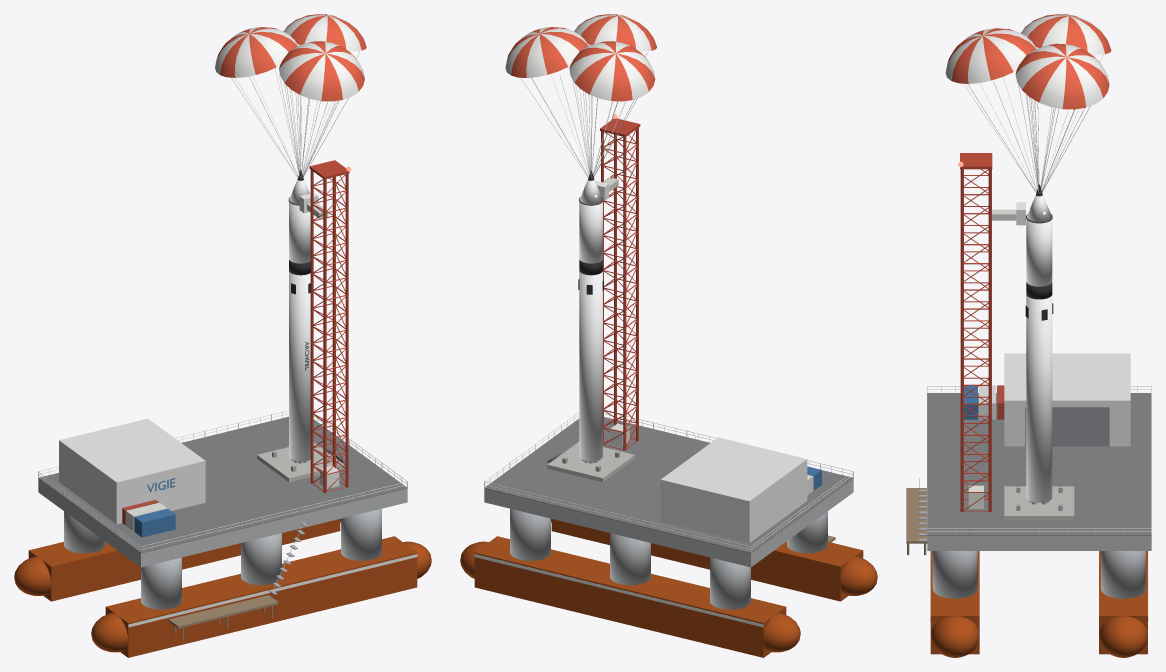
The model's file is vigie.glb.
The picture shows the model from 3 angles, left to right: view 1: azimuth 30°, elevation 25°; view 2: azimuth 150°, elevation 25°; view 3: azimuth 270°, elevation 25°; orthographic projection. The views are drawn at different scales.
Parts seen in each view (by area): view 1: PontDessus, Flotteur, Hangar, Flotteur.001, Pont, Etage1Corps, Voile.002, Voile.001, Voile, Colonne, Colonne.002, Colonne.001 (+12 smaller); view 2: Flotteur.001, PontDessus, Hangar, Flotteur, Pont, Etage1Corps, Voile.001, Voile, Voile.002, Colonne.003, Colonne.004, Colonne.005 (+9 smaller); view 3: PontDessus, Hangar, Etage1Corps, Voile, Voile.002, Pont, PorteHangar, Voile.001, Colonne.002, Colonne.005, PasDeTir, Etage2Corps (+11 smaller).
Boxes of the visible parts, bbox=[...] form: PontDessus: bbox=[38, 416, 407, 553]; Flotteur: bbox=[105, 536, 417, 657]; Hangar: bbox=[59, 418, 205, 524]; Flotteur.001: bbox=[28, 519, 340, 601]; Pont: bbox=[38, 478, 407, 567]; Etage1Corps: bbox=[289, 271, 310, 461]; Voile.002: bbox=[279, 41, 364, 101]; Voile.001: bbox=[215, 27, 297, 77]; Voile: bbox=[283, 14, 366, 51]; Colonne: bbox=[141, 557, 181, 609]; Colonne.002: bbox=[341, 508, 381, 560]; Colonne.001: bbox=[241, 533, 281, 585]; Flotteur.001: bbox=[474, 536, 786, 657]; PontDessus: bbox=[484, 417, 853, 553]; Hangar: bbox=[660, 437, 807, 542]; Flotteur: bbox=[551, 519, 863, 601]; Pont: bbox=[484, 478, 853, 567]; Etage1Corps: bbox=[579, 271, 602, 461]; Voile.001: bbox=[569, 41, 655, 101]; Voile: bbox=[505, 27, 588, 77]; Voile.002: bbox=[574, 14, 656, 51]; Colonne.003: bbox=[710, 557, 750, 609]; Colonne.004: bbox=[610, 533, 650, 585]; Colonne.005: bbox=[510, 508, 550, 560]; PontDessus: bbox=[927, 393, 1151, 535]; Hangar: bbox=[1004, 353, 1130, 446]; Etage1Corps: bbox=[1026, 295, 1052, 502]; Voile: bbox=[1015, 43, 1109, 109]; Voile.002: bbox=[945, 28, 1036, 83]; Pont: bbox=[927, 536, 1151, 550]; PorteHangar: bbox=[1025, 407, 1109, 446]; Voile.001: bbox=[1021, 14, 1111, 55]; Colonne.002: bbox=[932, 551, 977, 598]; Colonne.005: bbox=[1101, 551, 1145, 598]; PasDeTir: bbox=[1004, 486, 1074, 520]; Etage2Corps: bbox=[1026, 219, 1052, 286].
Bounding box in the file's own units: 60.4 × 92.01 × 35.03.
